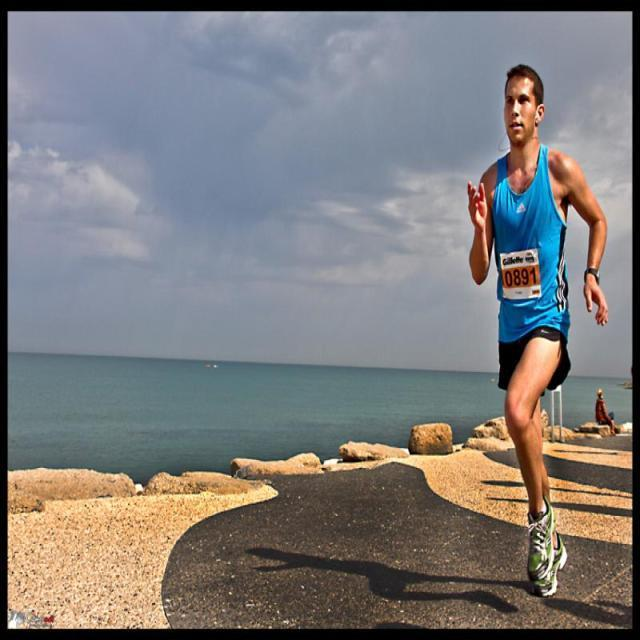dorsal: (495, 246, 546, 307)
